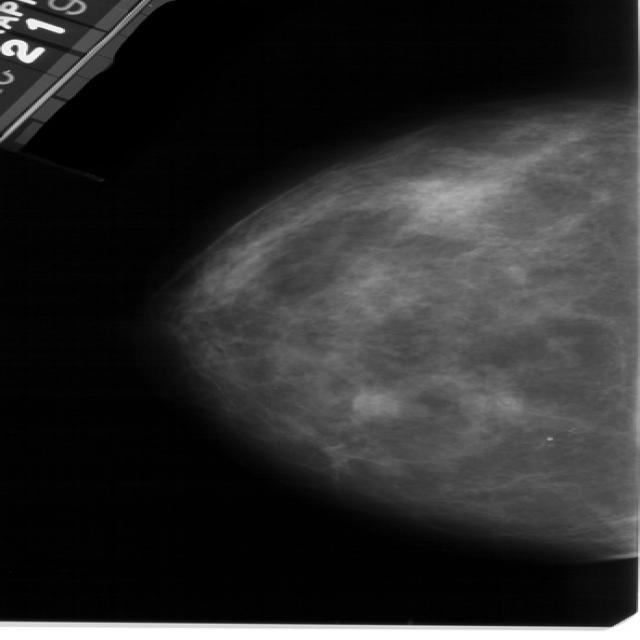tumour: (349, 390, 397, 415)
